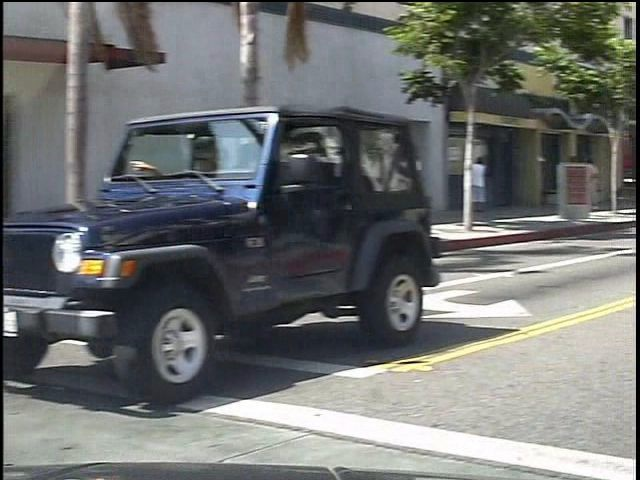person: (485, 147, 509, 230)
